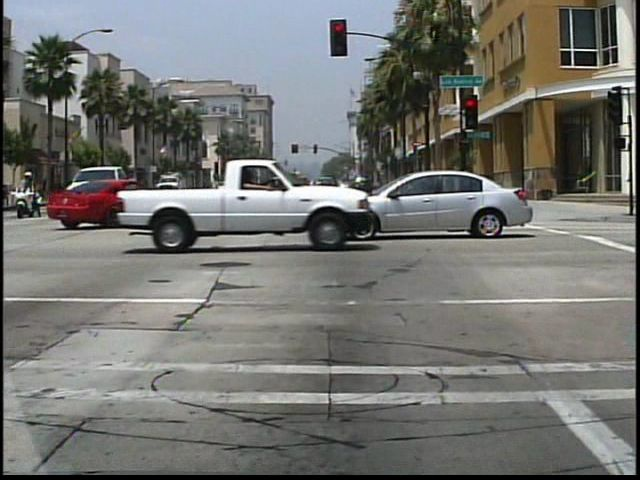person: (13, 170, 45, 209)
